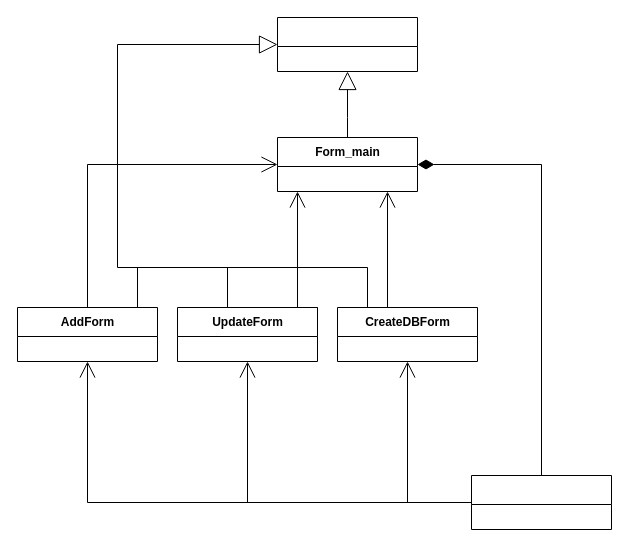
This 629x547 diagram has some shape labels left out. The shapes that lost their labels are listed below. From the top down, each one's centre as x and y in pixels, then its label:
At point (347, 44): "Form".
At point (541, 502): "SqlData".
